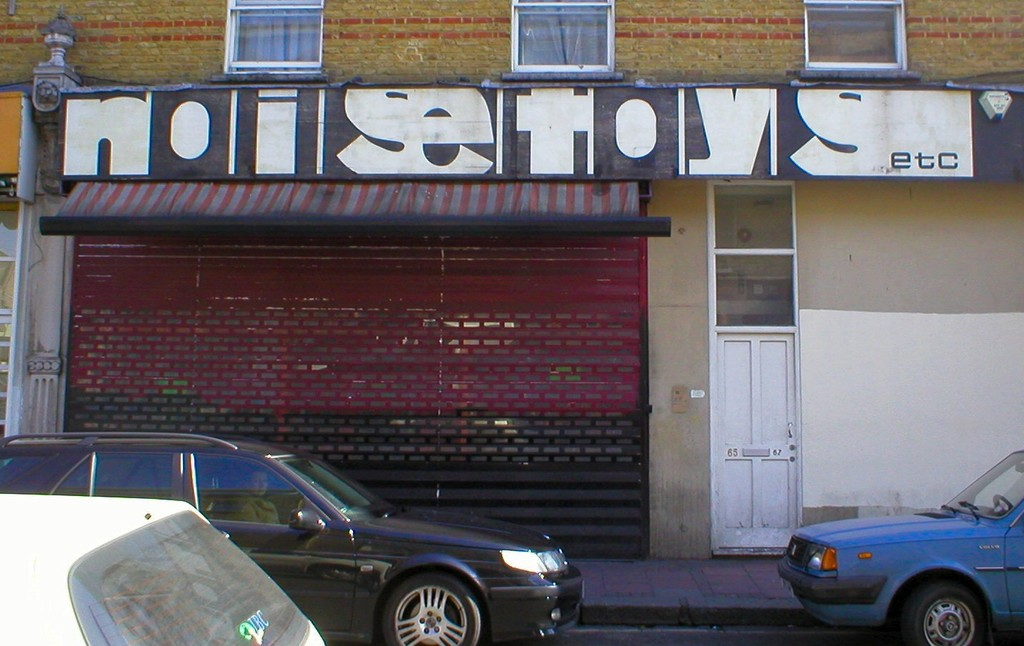Car: (0, 435, 587, 645), (0, 485, 326, 645), (779, 451, 1023, 645)
